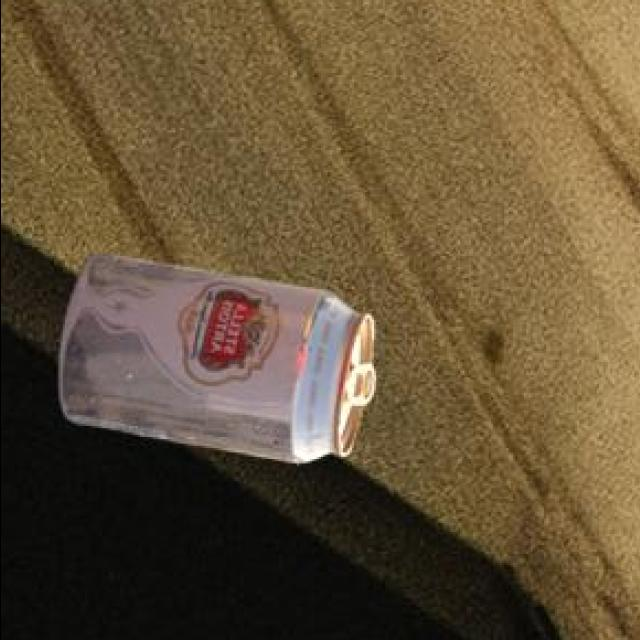logam: (61, 257, 378, 467)
